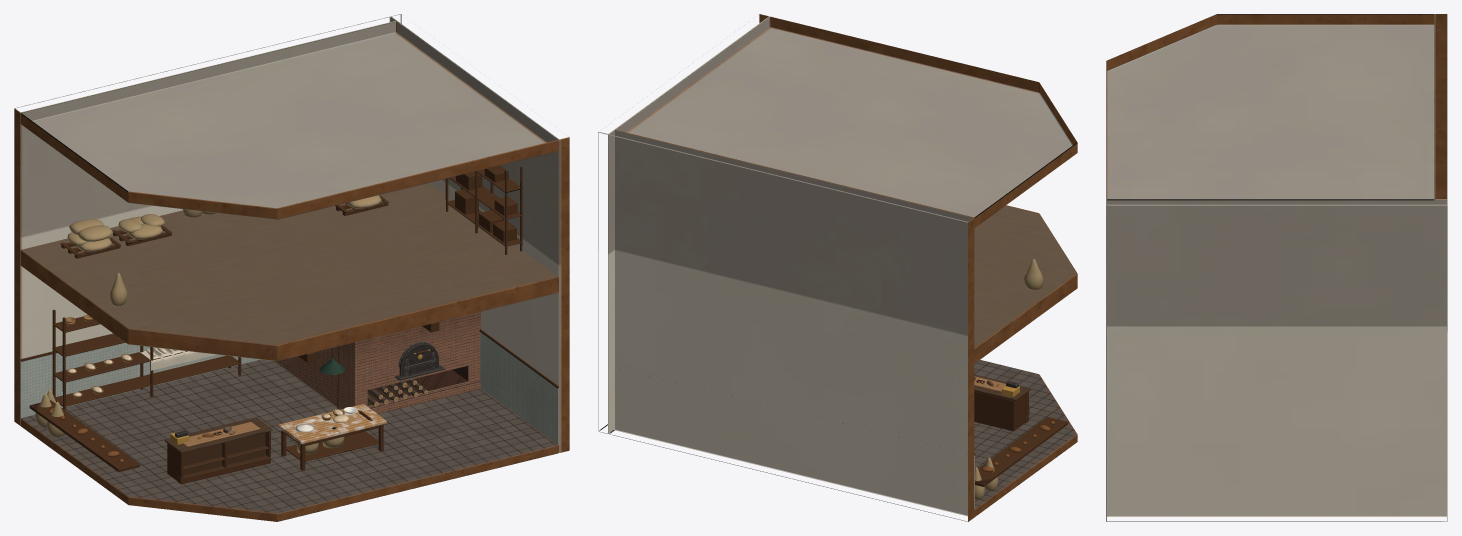
The model's file is enterijer.glb.
The picture shows the model from 3 angles, left to right: view 1: azimuth 30°, elevation 25°; view 2: azimuth 150°, elevation 25°; view 3: azimuth 270°, elevation 25°; orthographic projection. The views are drawn at different scales.
Parts seen in each view (by area): view 1: Plafon, Pod, Zidovi, Pec, Plocice, Polica, Magacin_regal, Pult, Magacin_dzakovi, Lajsne, Sto_ploca, Vitrina_staklo (+6 smaller); view 2: Zidovi, Plafon, Pod, Pult, Lajsne; view 3: Zidovi, Plafon.
Part boxes in pixels (x1,y1,x2,y2): Plafon: (20, 21, 558, 361); Pod: (20, 359, 558, 521); Zidovi: (14, 14, 569, 452); Pec: (275, 311, 480, 413); Plocice: (20, 332, 558, 444); Polica: (52, 309, 241, 410); Magacin_regal: (445, 165, 522, 254); Pult: (167, 431, 270, 484); Magacin_dzakovi: (67, 195, 381, 306); Lajsne: (20, 329, 558, 471); Sto_ploca: (278, 404, 386, 444); Vitrina_staklo: (184, 433, 267, 477); Zidovi: (598, 14, 974, 521); Plafon: (615, 16, 1077, 363); Pod: (974, 360, 1077, 517); Pult: (974, 391, 1029, 431); Lajsne: (974, 417, 1067, 486); Zidovi: (1106, 14, 1447, 521); Plafon: (1106, 14, 1434, 200).
Size of the model in its own units: 10.61 by 8.2 by 8.
6 materials, 4 textured.
